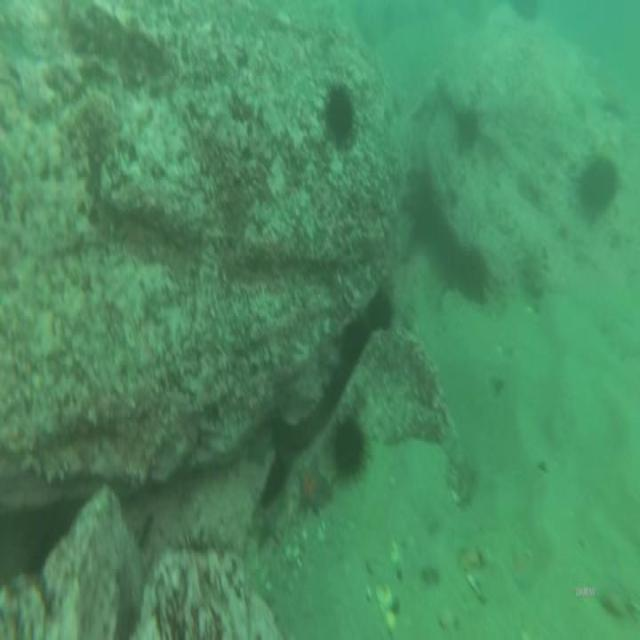echinus: (578, 145, 623, 223), (329, 404, 371, 484), (323, 76, 361, 148), (452, 100, 483, 152), (341, 316, 367, 370), (369, 289, 394, 337)
starfish: (292, 450, 332, 523)
